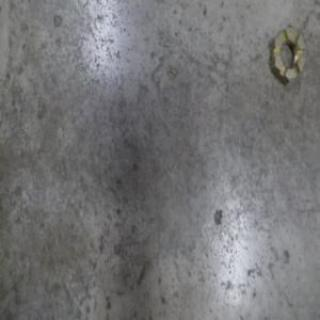Nuttrack_idkeyframe: (268, 23, 307, 89)
